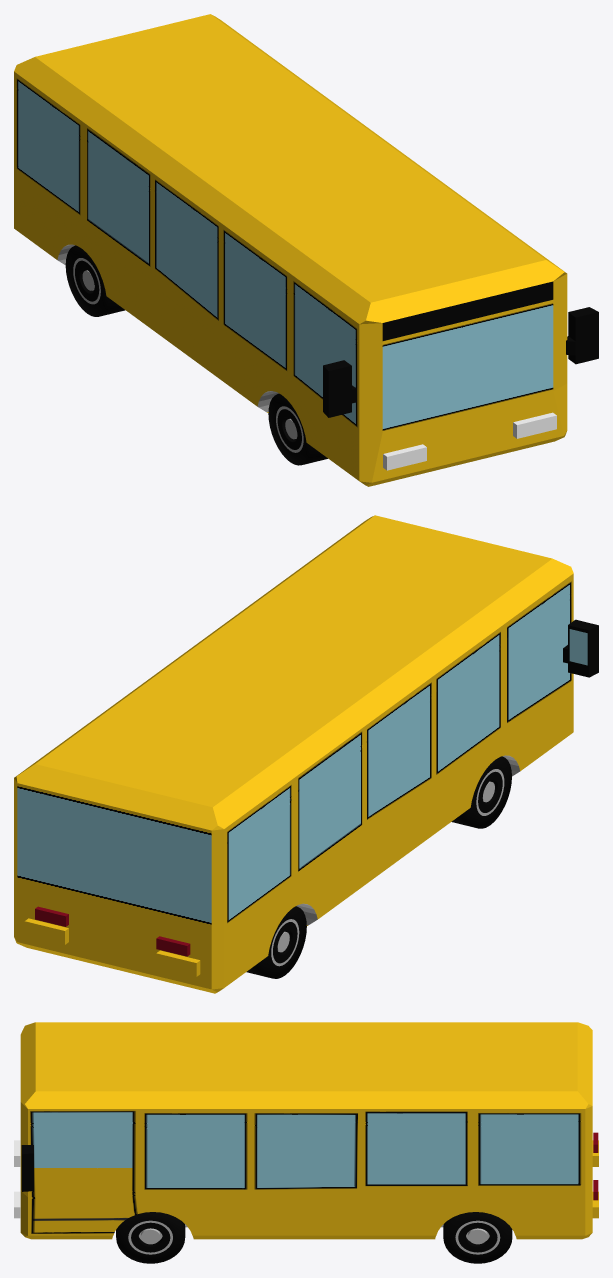
The model's file is bus.fbx.
3 views of the same model, one above another, from view 1: azimuth 30°, elevation 25°; view 2: azimuth 150°, elevation 25°; view 3: azimuth 270°, elevation 25° (orthographic). The views are drawn at different scales.
Visible parts, largest first — view 1: Cube; view 2: Cube; view 3: Cube.
Boxes of the visible parts, x1,y1,x2,y2 form: Cube: [14, 14, 598, 486]; Cube: [14, 515, 598, 993]; Cube: [14, 1022, 598, 1263].
Size of the model in its own units: 374 by 284 by 891.
